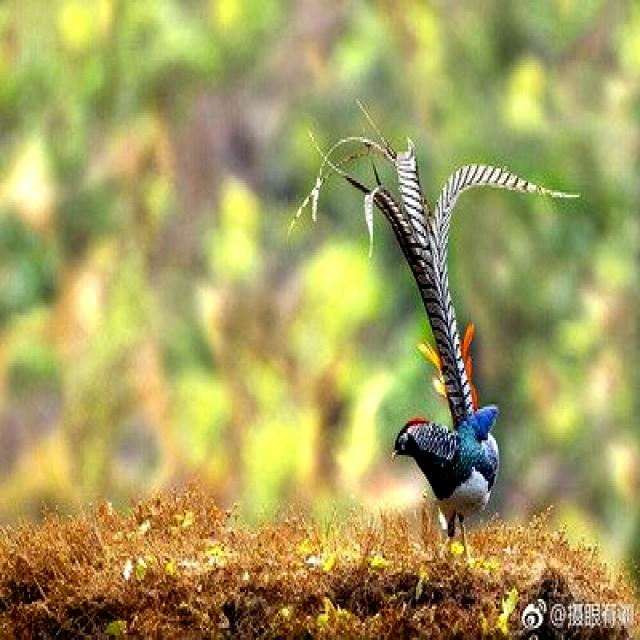Chrysolophus amherstiae: (296, 137, 578, 414)
